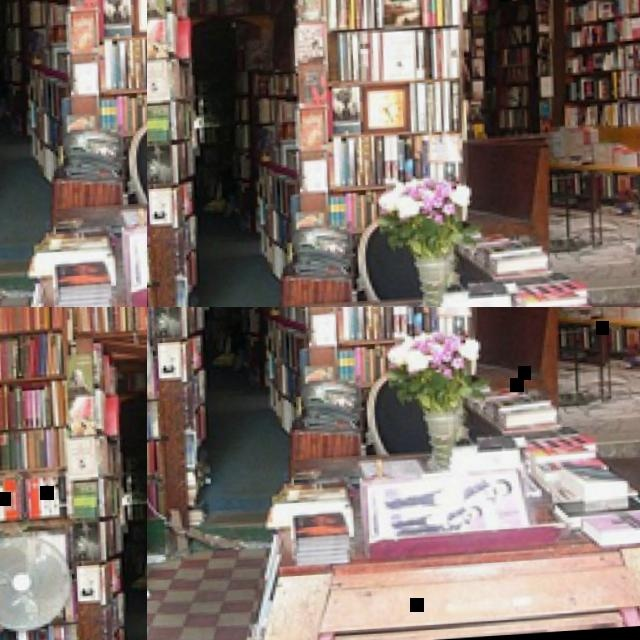NO-Safety Vest: (81, 0, 147, 148)
Person: (0, 0, 147, 307)
machinery: (147, 0, 611, 307), (0, 388, 147, 640)
